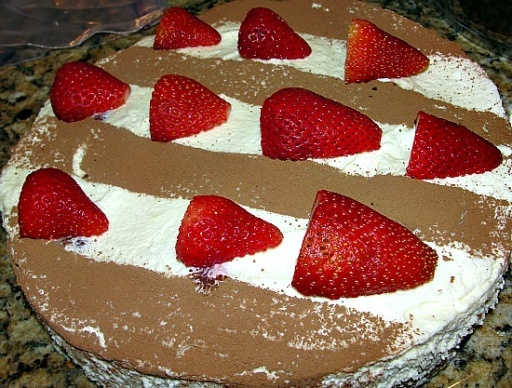background: (0, 0, 410, 235)
